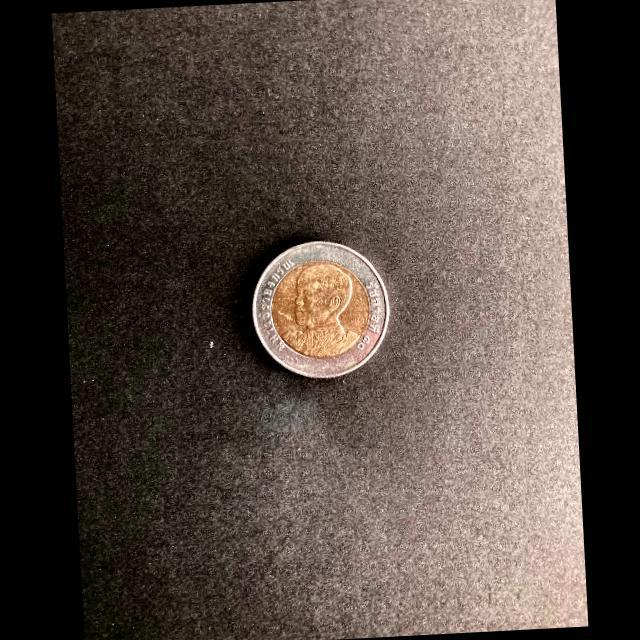10 Bath: (248, 239, 396, 385)
